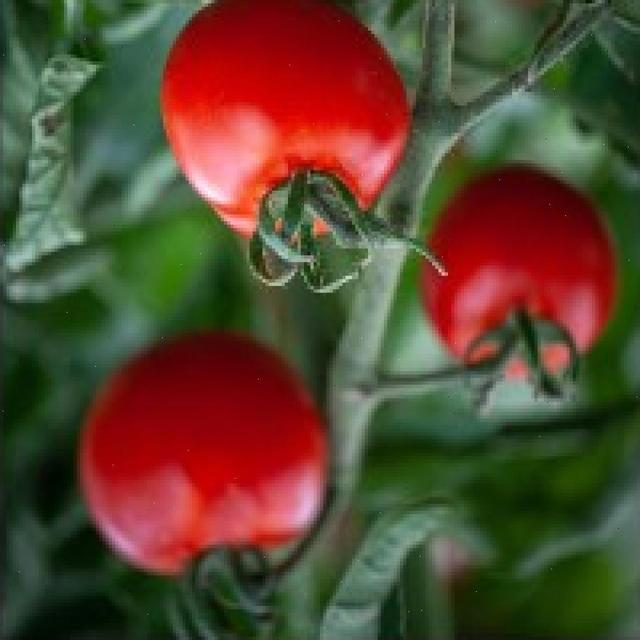Healthy Fruit: (122, 89, 346, 306)
